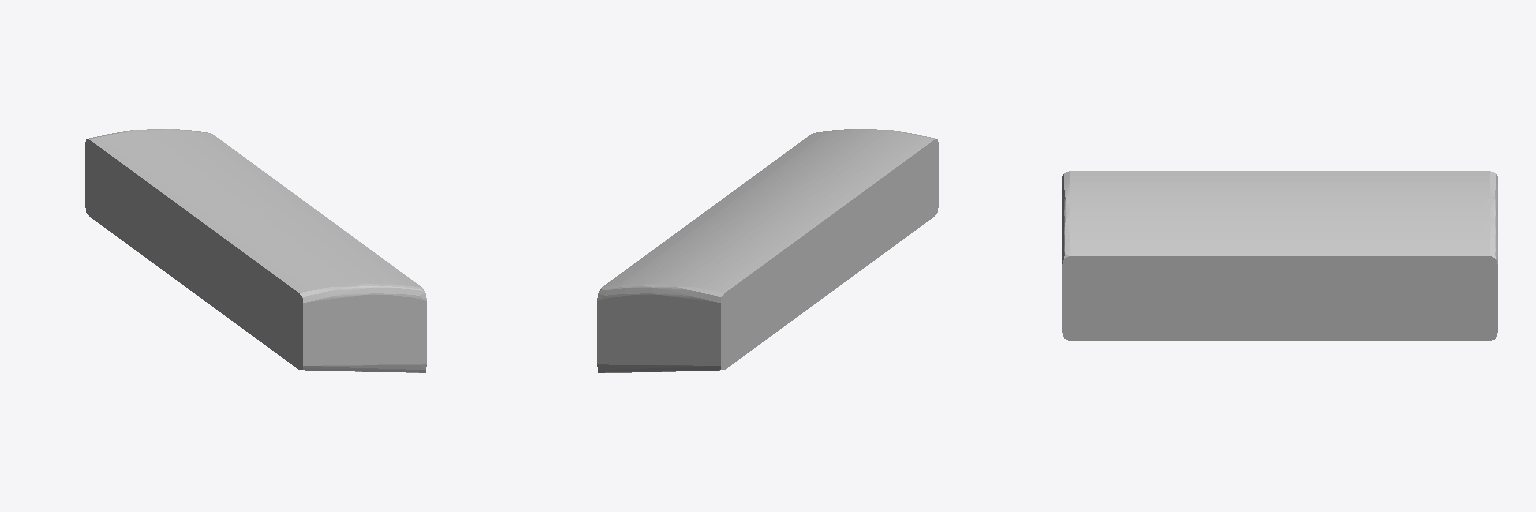
File: Cylinder_with_Hole_collision_4.obj
3 views of the same model, side by side, from view 1: azimuth 30°, elevation 25°; view 2: azimuth 150°, elevation 25°; view 3: azimuth 270°, elevation 25° (orthographic).
Size of the model in its own units: 46.61 by 39.46 by 143.